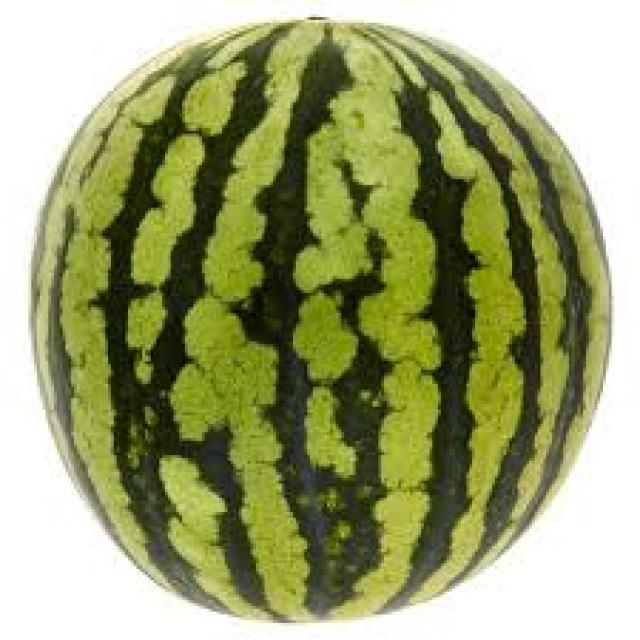watermelon: (34, 20, 615, 620)
